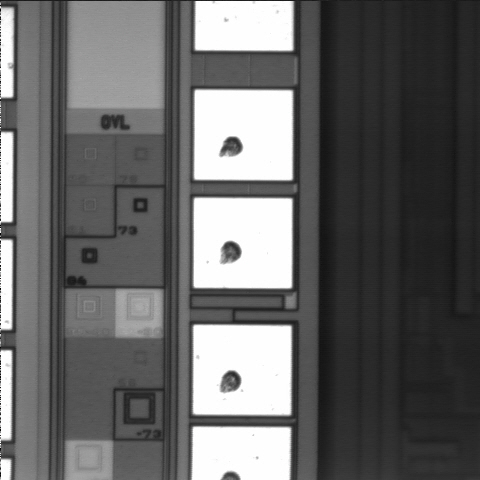pad: (194, 90, 293, 180), (194, 198, 292, 288), (193, 325, 291, 415)
